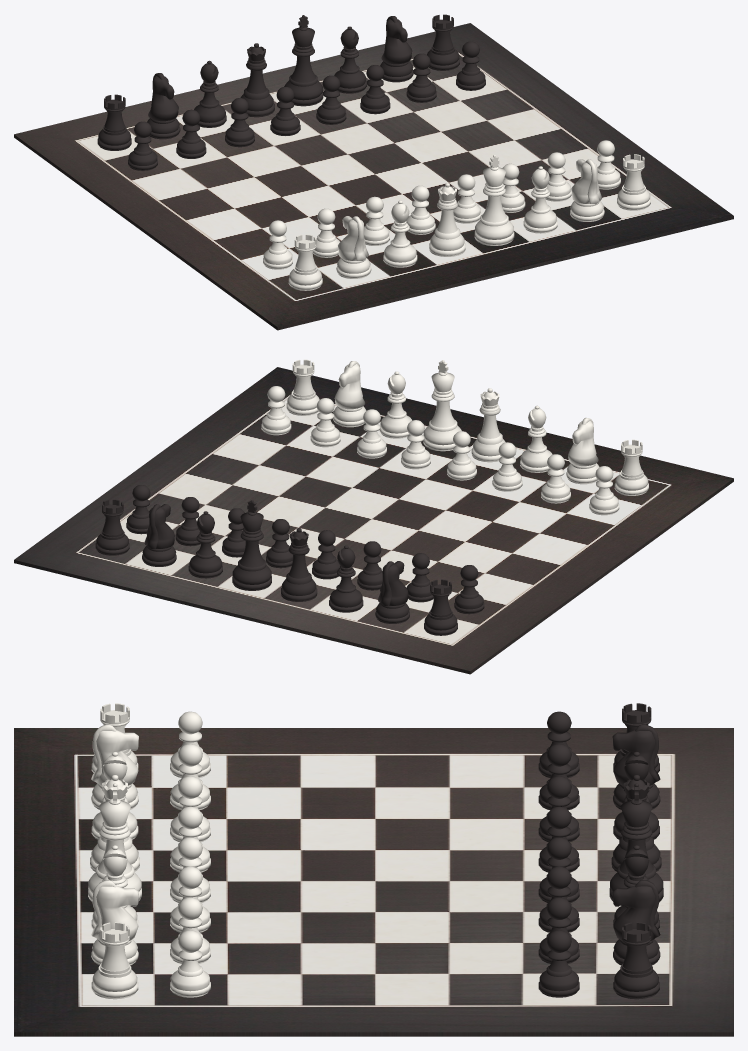
The model's file is chess-board1.glb.
The picture shows the model from 3 angles, top to bottom: view 1: azimuth 30°, elevation 25°; view 2: azimuth 150°, elevation 25°; view 3: azimuth 270°, elevation 25°; orthographic projection. The views are drawn at different scales.
Visible parts, largest first — view 1: Plane002, King_White_0, King001_Black_0, Queen_White_0, Knight001_White_0, Knight_White_0, Knight003_Black_0, Knight002_Black_0, Queen001_Black_0, Bishop001_White_0, Bishop_White_0, Rook001_White_0 (+21 smaller); view 2: Plane002, King001_Black_0, King_White_0, Queen001_Black_0, Knight002_Black_0, Knight003_Black_0, Knight001_White_0, Knight_White_0, Queen_White_0, Bishop003_Black_0, Bishop002_Black_0, Rook002_Black_0 (+21 smaller); view 3: Plane002, Rook002_Black_0, Rook_White_0, Knight003_Black_0, Knight001_White_0, Knight002_Black_0, Knight_White_0, King_White_0, King001_Black_0, Pawn015_Black_0, Pawn007_White_0, Queen001_Black_0 (+21 smaller).
Part boxes in pixels (<box>): Plane002: <box>14,23,733,330</box>; King_White_0: <box>474,155,514,245</box>; King001_Black_0: <box>284,15,323,106</box>; Queen_White_0: <box>429,183,465,256</box>; Knight001_White_0: <box>570,159,604,221</box>; Knight_White_0: <box>336,216,371,278</box>; Knight003_Black_0: <box>380,16,413,82</box>; Knight002_Black_0: <box>147,73,180,139</box>; Queen001_Black_0: <box>240,43,274,117</box>; Bishop001_White_0: <box>383,200,417,267</box>; Bishop_White_0: <box>523,166,557,233</box>; Rook001_White_0: <box>288,234,322,290</box>; Plane002: <box>14,367,733,674</box>; King001_Black_0: <box>232,500,271,590</box>; King_White_0: <box>423,360,461,451</box>; Queen001_Black_0: <box>281,528,317,601</box>; Knight002_Black_0: <box>375,561,409,623</box>; Knight003_Black_0: <box>142,504,176,566</box>; Knight001_White_0: <box>333,361,366,427</box>; Knight_White_0: <box>566,418,599,484</box>; Queen_White_0: <box>471,388,505,462</box>; Bishop003_Black_0: <box>329,545,363,612</box>; Bishop002_Black_0: <box>188,511,222,578</box>; Rook002_Black_0: <box>95,499,129,555</box>; Plane002: <box>14,728,733,1036</box>; Rook002_Black_0: <box>613,922,659,999</box>; Rook_White_0: <box>91,922,138,999</box>; Knight003_Black_0: <box>612,880,660,965</box>; Knight001_White_0: <box>91,880,138,965</box>; Knight002_Black_0: <box>612,724,660,809</box>; Knight_White_0: <box>91,724,138,809</box>; King_White_0: <box>88,783,141,905</box>; King001_Black_0: <box>609,783,663,905</box>; Pawn015_Black_0: <box>538,930,579,997</box>; Pawn007_White_0: <box>170,930,210,997</box>; Queen001_Black_0: <box>611,775,661,871</box>.
Size of the model in its own units: 4.23 by 0.7643 by 4.23.
3 materials, 1 textured.
